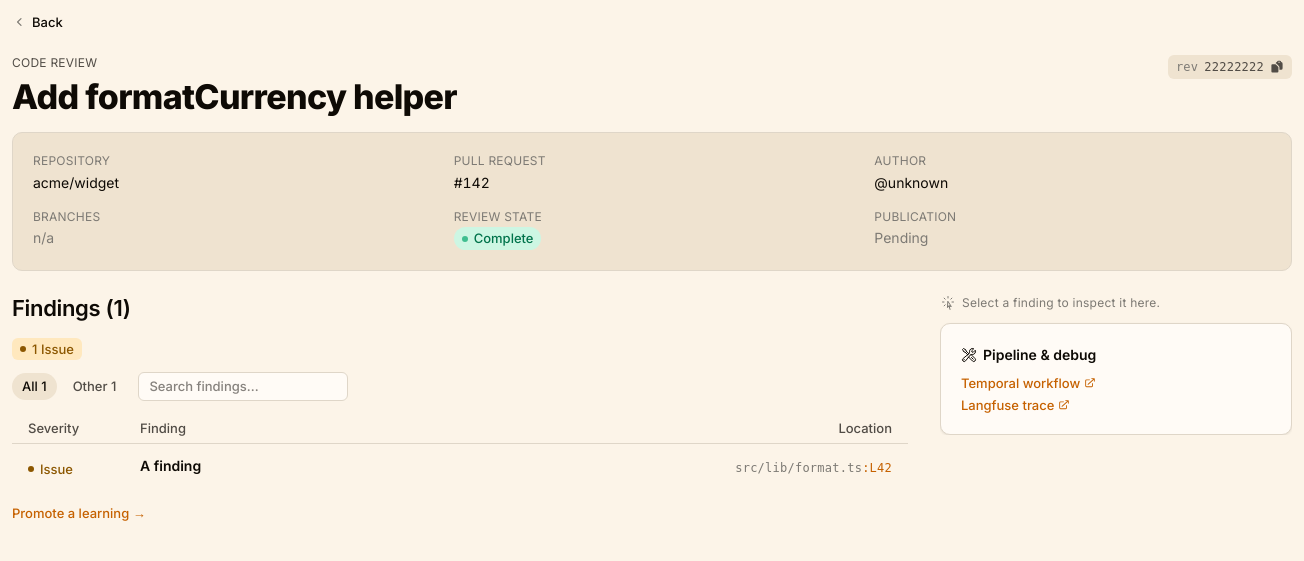
ReviewDetailPage — wiring › P5 feedback write-loop › renders feedback verbs per finding + a promote-learning link
Click the text "A finding".
click(171, 465)  # box [140, 457, 201, 474]
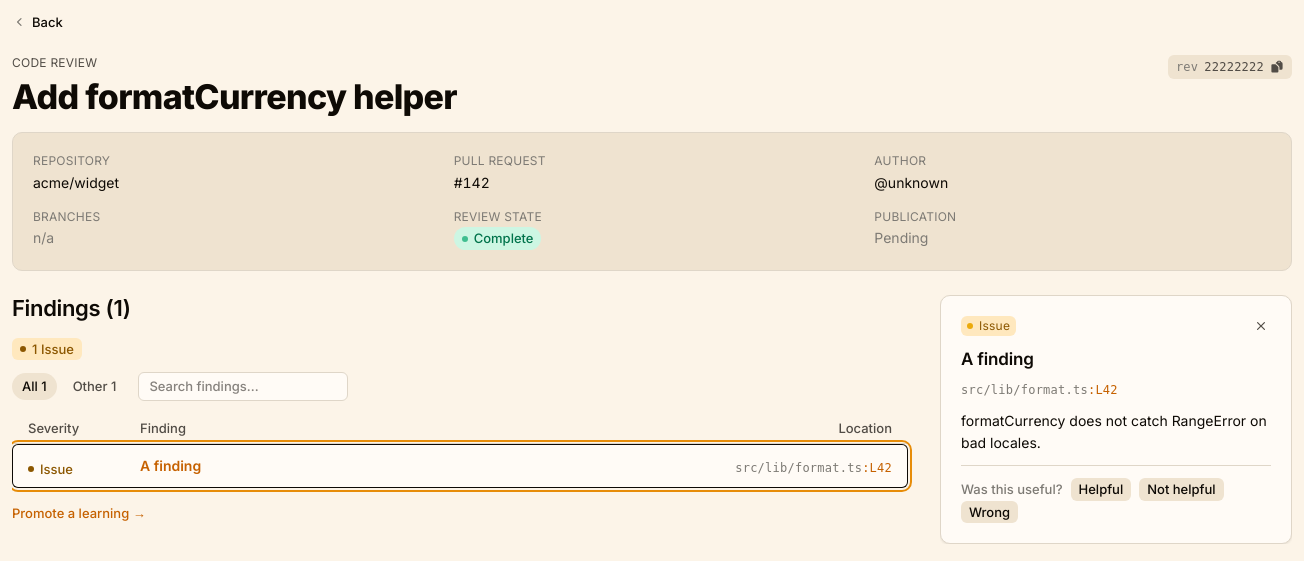
Check: the text "Was this useful?" is shown, box [961, 480, 1062, 499]
Check: the button "Helpful" is shown, box [1070, 478, 1131, 501]
Check: the button "Not helpful" is shown, box [1139, 478, 1224, 501]
